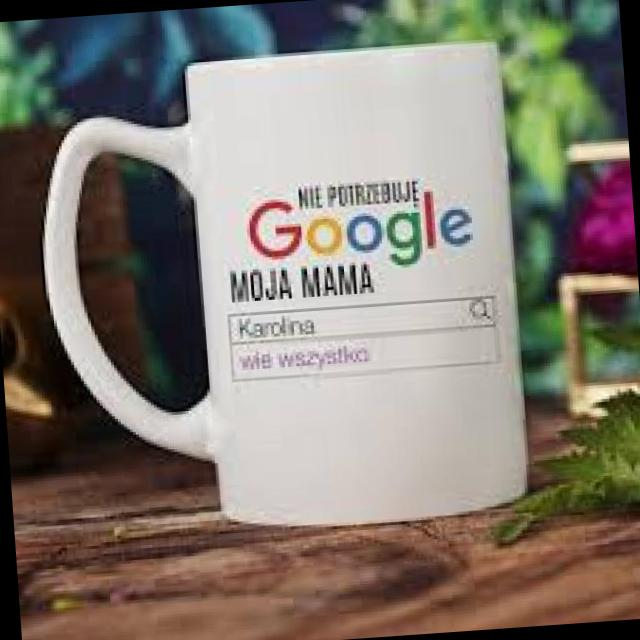Coffee Mug: (35, 35, 538, 545)
